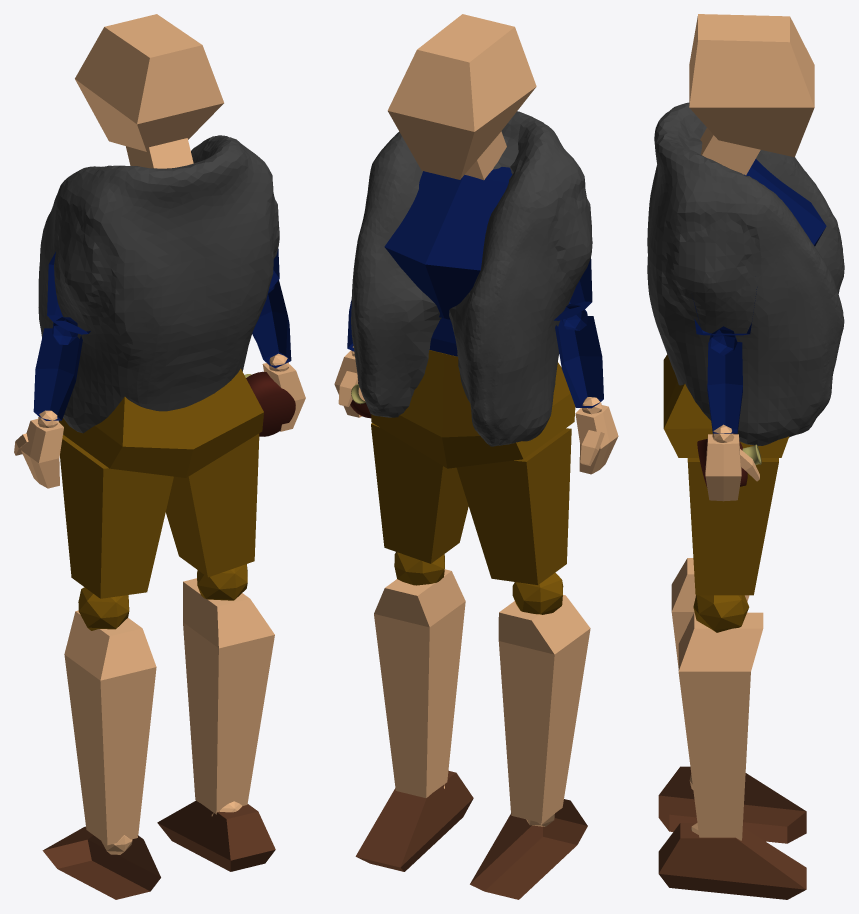
File: Josefine.fbx
3 renders of one model, left to right at view 1: azimuth 30°, elevation 25°; view 2: azimuth 150°, elevation 25°; view 3: azimuth 270°, elevation 25°, orthographic.
Parts seen in each view (by area): view 1: Cube.138, Cube.128, Cube.126, Head.008, BeinLi.008, Torso.008, BeinRe.008, Cube.127, Cube.129, Cube.131, Cube.132, Cube.135 (+6 smaller); view 2: Cube.138, Head.008, Cube.126, Cube.128, BeinLi.008, Cube.124, Torso.008, BeinRe.008, Cube.129, Cube.127, Cube.131, Cube.132 (+6 smaller); view 3: Cube.138, Head.008, Cube.126, BeinRe.008, Cube.127, Cube.129, Torso.008, Cube.135, Cube.136, Cube.124, Icosphere.064, Cube.128 (+3 smaller).
Part boxes in pixels (left/top/right/bottom): Cube.138: left=38, top=135, right=279, bottom=433; Cube.128: left=64, top=610, right=156, bottom=845; Cube.126: left=183, top=578, right=274, bottom=814; Head.008: left=75, top=14, right=223, bottom=151; BeinLi.008: left=60, top=435, right=173, bottom=598; Torso.008: left=58, top=368, right=263, bottom=477; BeinRe.008: left=166, top=433, right=259, bottom=577; Cube.127: left=157, top=801, right=275, bottom=871; Cube.129: left=42, top=826, right=160, bottom=899; Cube.131: left=33, top=328, right=82, bottom=420; Cube.132: left=21, top=419, right=63, bottom=488; Cube.135: left=252, top=280, right=291, bottom=368; Cube.138: left=351, top=111, right=592, bottom=446; Head.008: left=387, top=14, right=536, bottom=179; Cube.126: left=374, top=569, right=465, bottom=797; Cube.128: left=498, top=595, right=590, bottom=822; BeinLi.008: left=457, top=428, right=571, bottom=584; Cube.124: left=384, top=167, right=512, bottom=319; Torso.008: left=371, top=350, right=575, bottom=468; BeinRe.008: left=371, top=423, right=468, bottom=563; Cube.129: left=470, top=799, right=587, bottom=899; Cube.127: left=355, top=770, right=473, bottom=871; Cube.131: left=555, top=316, right=603, bottom=408; Cube.132: left=575, top=405, right=618, bottom=474; Cube.138: left=647, top=102, right=844, bottom=445; Head.008: left=689, top=14, right=814, bottom=157; Cube.126: left=678, top=612, right=763, bottom=840; BeinRe.008: left=687, top=458, right=778, bottom=595; Cube.127: left=658, top=823, right=806, bottom=899; Cube.129: left=658, top=766, right=806, bottom=843; Torso.008: left=663, top=354, right=789, bottom=457; Cube.135: left=707, top=342, right=742, bottom=433; Cube.136: left=705, top=434, right=741, bottom=501; Cube.124: left=744, top=159, right=826, bottom=246; Icosphere.064: left=693, top=595, right=749, bottom=632; Cube.128: left=671, top=558, right=749, bottom=667.
Size of the model in its own units: 77.08 by 229 by 49.03.
